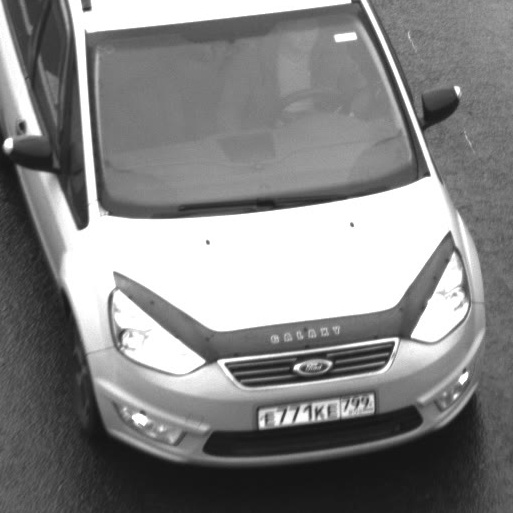plate: (246, 378, 386, 437)
